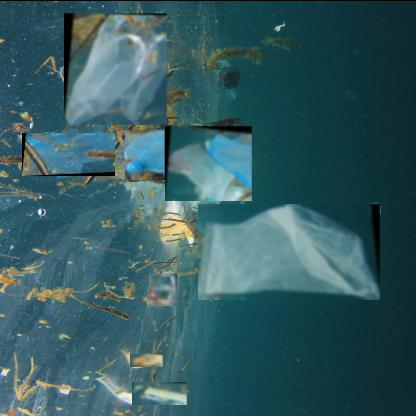plastic-bag: (198, 202, 381, 299), (64, 11, 168, 124), (165, 124, 253, 200), (125, 126, 221, 178), (22, 131, 116, 175)
waste: (132, 380, 188, 404), (149, 271, 178, 304), (130, 351, 164, 366)
